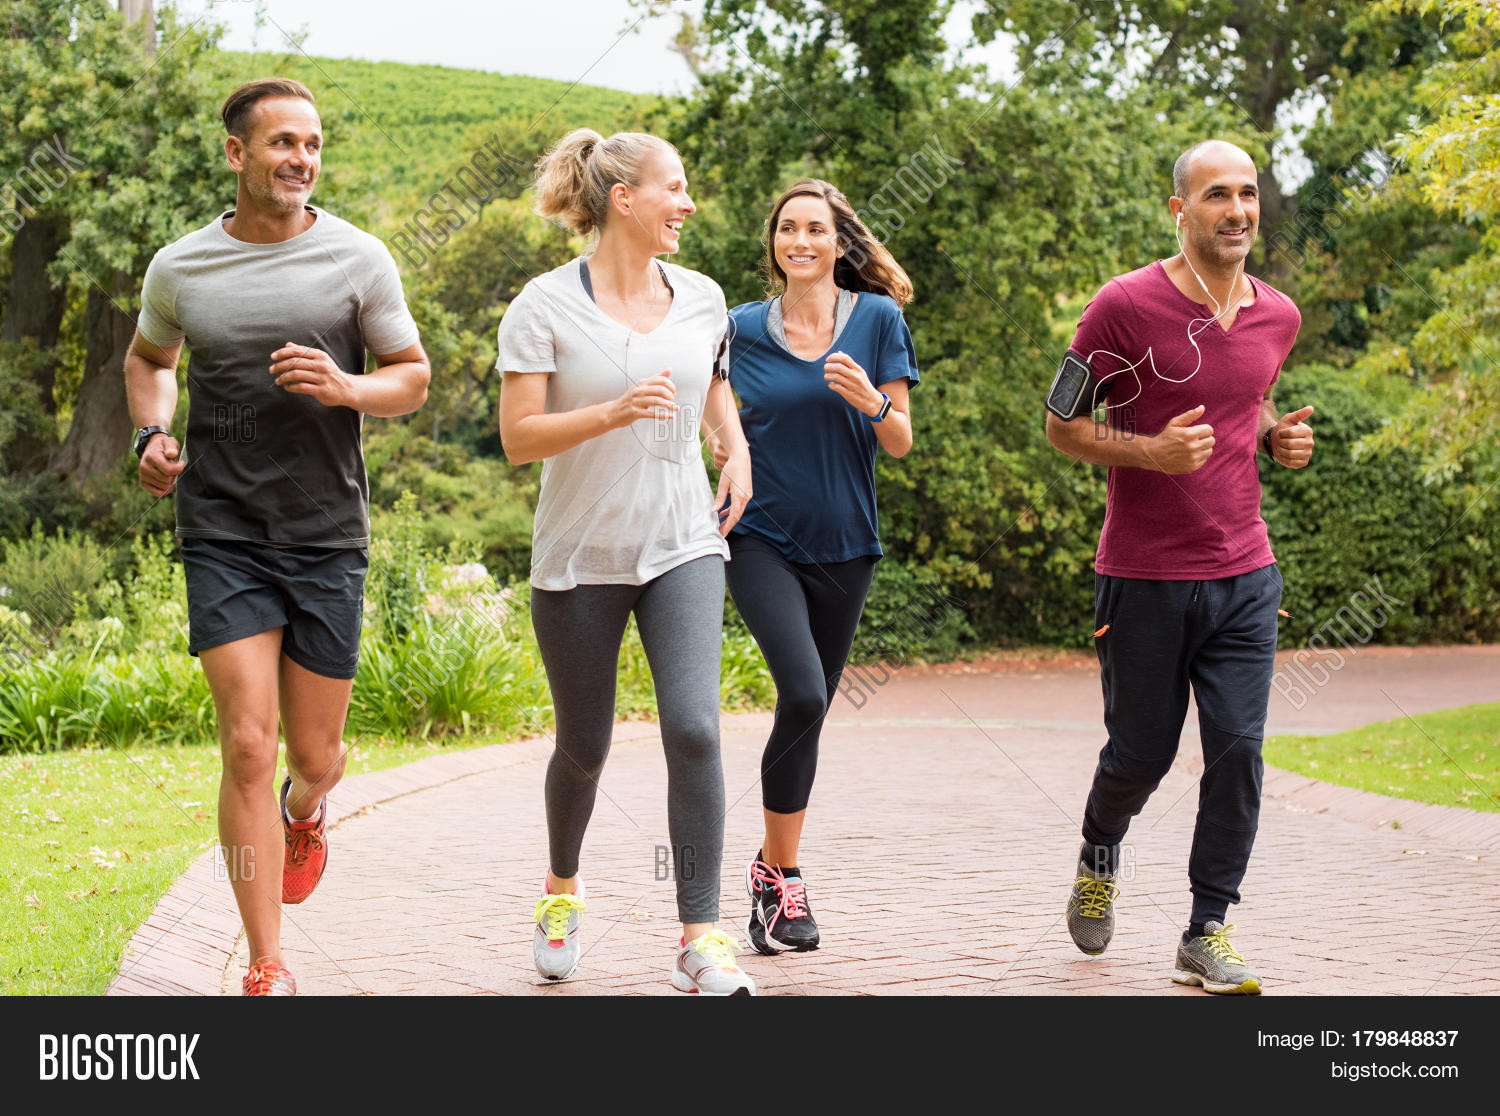person: (111, 71, 441, 993), (1033, 125, 1335, 1001), (489, 117, 763, 1001), (717, 173, 929, 963)
